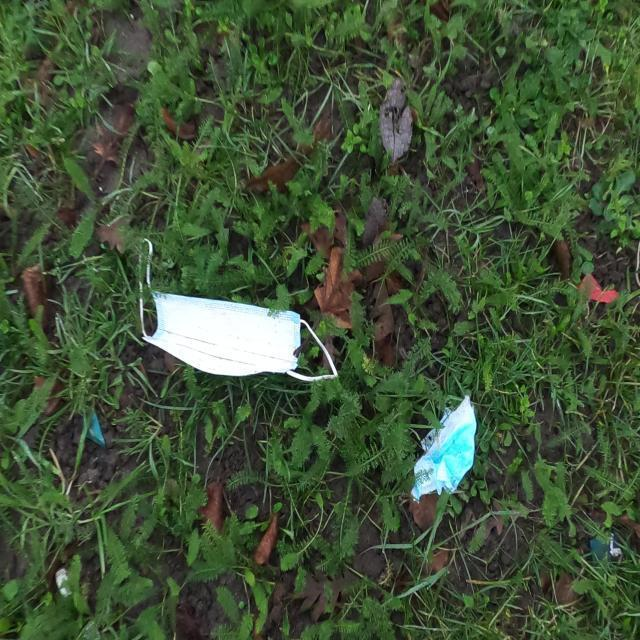Mask: (136, 234, 342, 384)
Plastic: (410, 386, 478, 504)
